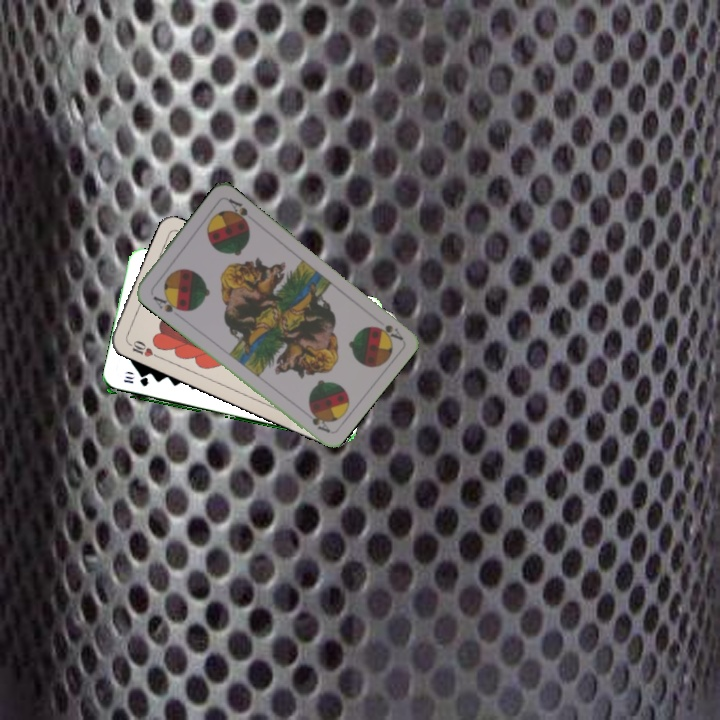G10: (120, 372, 151, 389)
H10: (123, 336, 162, 360)
SA: (149, 291, 185, 315), (370, 321, 406, 343)
